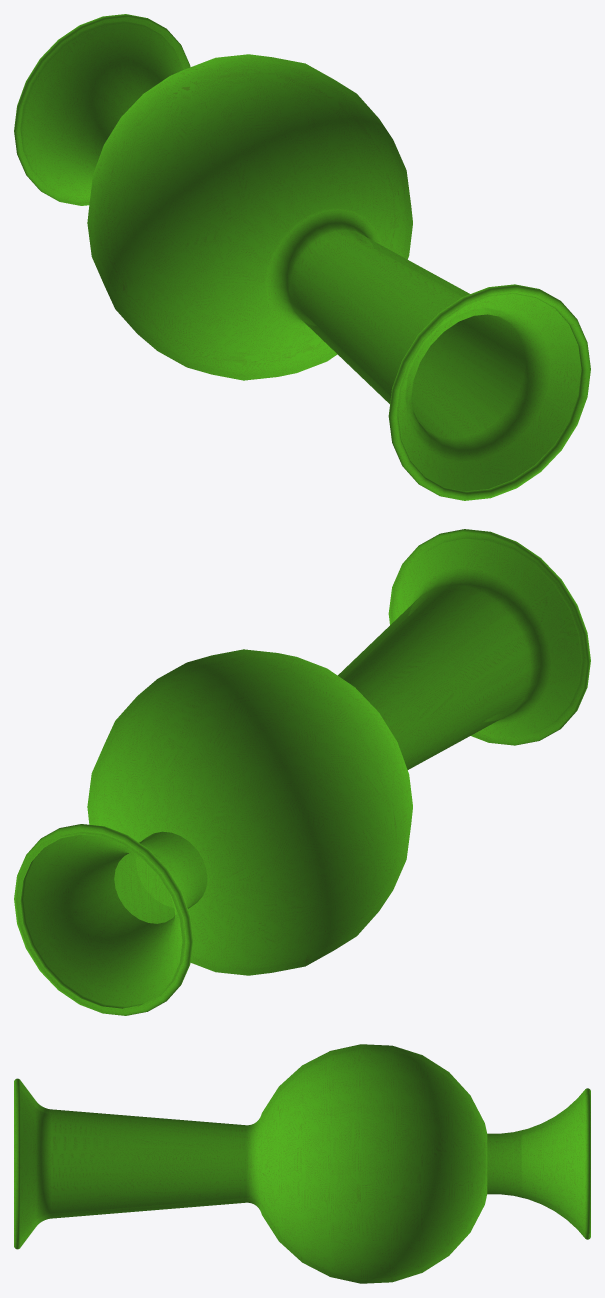
The model's file is model_align.obj.
3 views of the same model, one above another, from view 1: azimuth 30°, elevation 25°; view 2: azimuth 150°, elevation 25°; view 3: azimuth 270°, elevation 25° (orthographic). The views are drawn at different scales.
Visible parts, largest first — view 1: mesh1_mesh1-geometry; view 2: mesh1_mesh1-geometry; view 3: mesh1_mesh1-geometry.
Boxes of the visible parts, bbox=[...] form: mesh1_mesh1-geometry: bbox=[14, 14, 590, 500]; mesh1_mesh1-geometry: bbox=[14, 529, 590, 1015]; mesh1_mesh1-geometry: bbox=[14, 1044, 590, 1283].
Bounding box in the file's own units: 0.0919 × 0.0919 × 0.2206.
